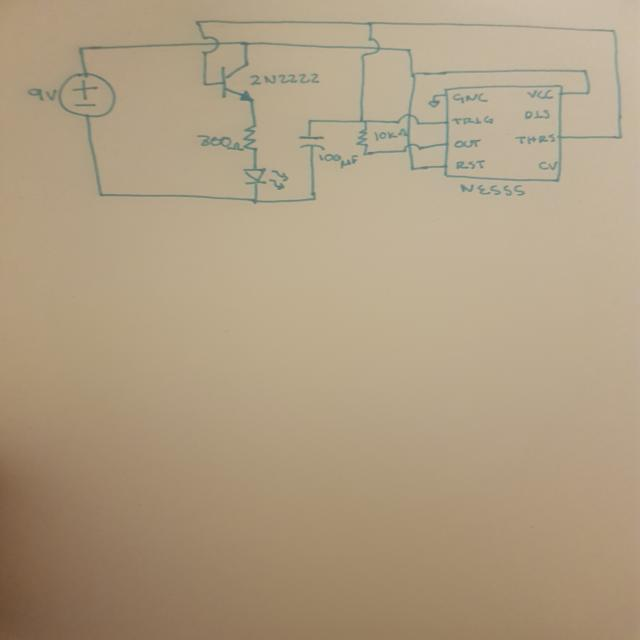capacitor: (295, 134, 327, 152)
crossover: (358, 36, 383, 60), (197, 35, 221, 56), (394, 112, 423, 126), (402, 142, 422, 154)
diode: (240, 165, 290, 192)
ground: (426, 100, 442, 110)
junction: (238, 40, 254, 49), (613, 131, 626, 142), (606, 26, 620, 36), (362, 20, 379, 28), (76, 44, 87, 55), (249, 196, 261, 206), (577, 68, 590, 76), (96, 191, 108, 199), (304, 118, 316, 126), (193, 19, 206, 26), (407, 71, 420, 78), (356, 118, 371, 124), (307, 195, 319, 202), (200, 81, 210, 89), (403, 46, 413, 54), (407, 165, 417, 172), (582, 90, 593, 96), (361, 152, 370, 158), (431, 94, 438, 98)
resistor: (239, 122, 264, 158), (354, 127, 371, 148)
source: (55, 72, 116, 118)
text: (248, 72, 321, 88), (458, 183, 526, 197), (194, 134, 242, 153), (317, 153, 357, 169), (26, 86, 57, 104), (514, 133, 556, 145), (450, 115, 494, 126), (451, 92, 488, 104), (455, 159, 486, 171), (525, 89, 555, 101), (523, 109, 551, 120), (453, 139, 482, 149), (372, 131, 402, 140), (537, 160, 558, 171)
transistor: (216, 60, 260, 106)
